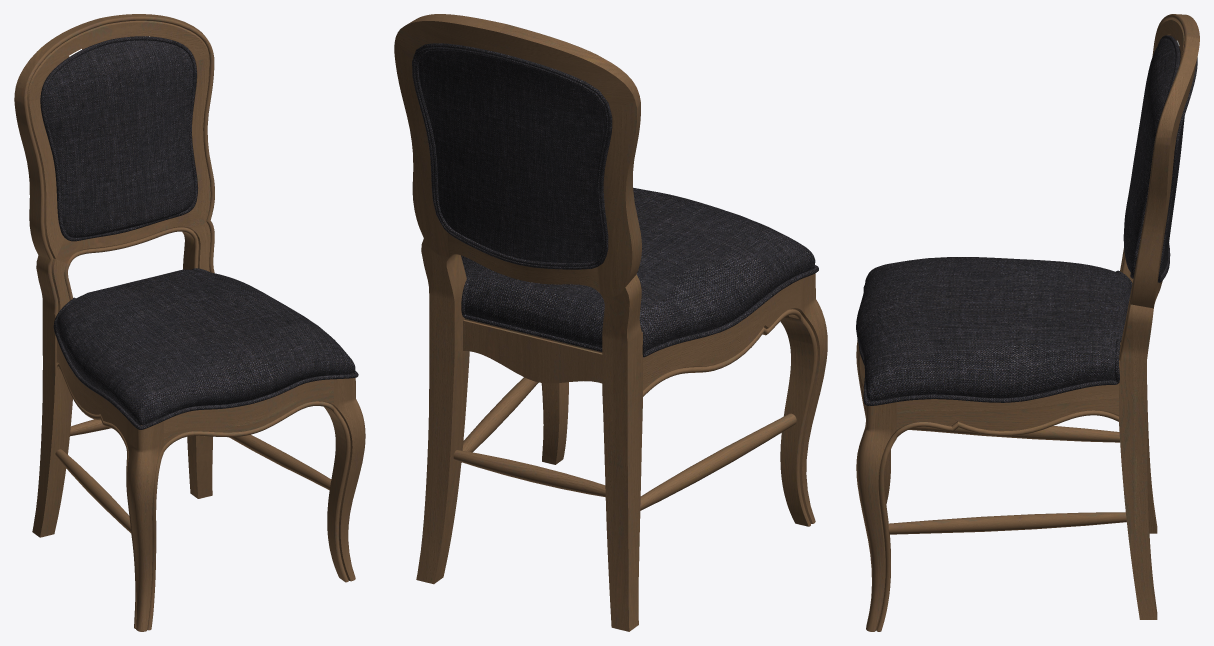
Rendered from example52.gltf.
3 views of the same model, side by side, from view 1: azimuth 30°, elevation 25°; view 2: azimuth 150°, elevation 25°; view 3: azimuth 270°, elevation 25° (orthographic). The views are drawn at different scales.
Parts seen in each view (by area): view 1: Object_4, Object_2; view 2: Object_2, Object_5, Object_4; view 3: Object_4, Object_2, Object_5.
Boxes of the visible parts, x1,y1,x2,y2 form: Object_4: (40, 36, 358, 429); Object_2: (14, 14, 365, 631); Object_2: (394, 14, 827, 631); Object_5: (412, 43, 612, 269); Object_4: (461, 187, 818, 357); Object_4: (856, 35, 1180, 405); Object_2: (856, 14, 1199, 631); Object_5: (1157, 48, 1197, 282).
Size of the model in its own units: 48.6 by 95.93 by 55.71.
Materials: 3 (2 with a texture image).
